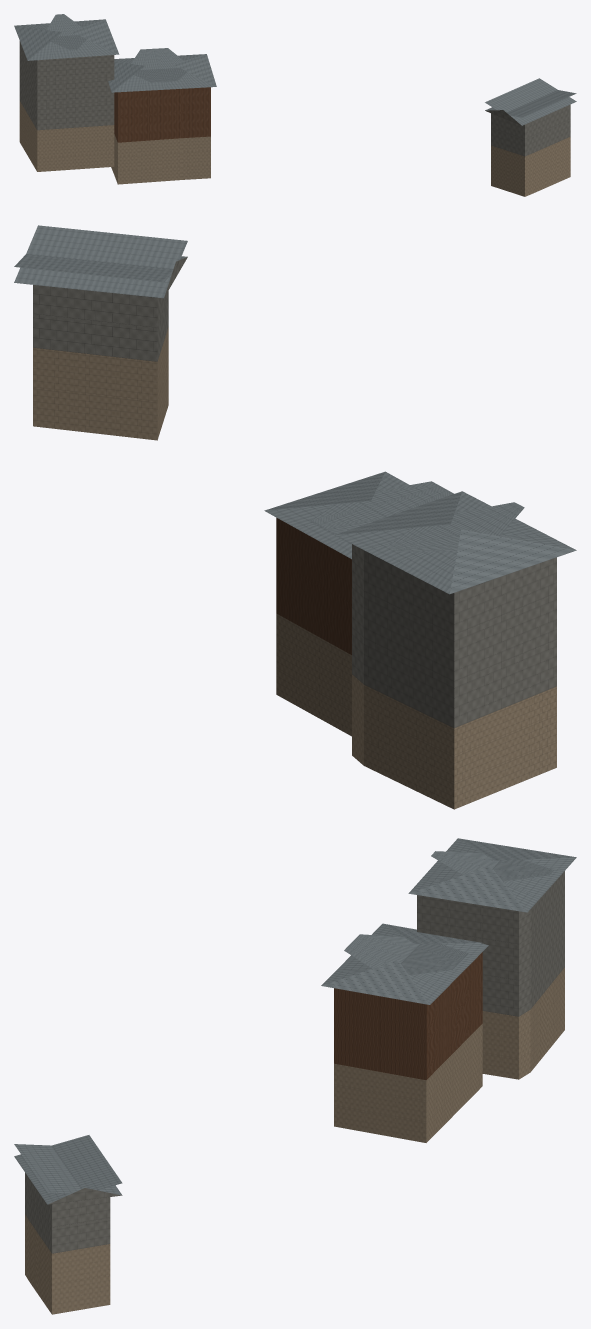
Rendered from bld_c24_29_400.gltf.
3 views of the same model, one above another, from view 1: azimuth 30°, elevation 25°; view 2: azimuth 150°, elevation 25°; view 3: azimuth 270°, elevation 25° (orthographic). The views are drawn at different scales.
Visible parts, largest first — view 1: bld_c24_29_400; view 2: bld_c24_29_400; view 3: bld_c24_29_400.
Boxes of the visible parts, bbox=[...] form: bld_c24_29_400: bbox=[14, 14, 576, 196]; bld_c24_29_400: bbox=[14, 225, 576, 809]; bld_c24_29_400: bbox=[14, 838, 576, 1314].
Bounding box in the file's own units: 52.8 × 15.9 × 41.38.
5 materials, 5 textured.
